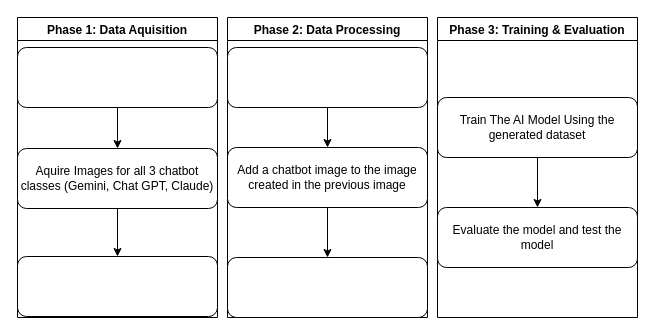
Image size: 655x335. Some labels were removed from this diagram. Here are the shapes that lost their labels. From the top down, the centre of each, then its label:
the point at 117,77: Aquire Background Images
the point at 327,77: Merge images of distractors to a backround image
the point at 117,286: Aqire Images for distractor classes (Any window which is not a chatbot)
the point at 327,287: Label and Save the final image
